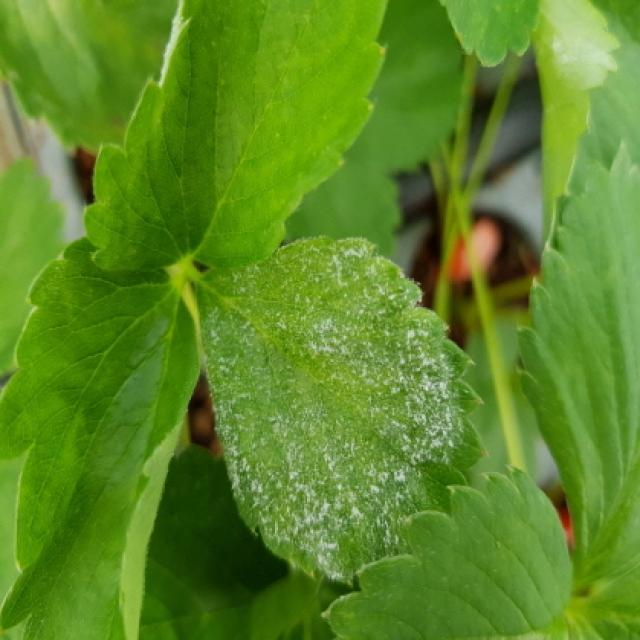powdery_mildew_leaf: (194, 234, 488, 589)
